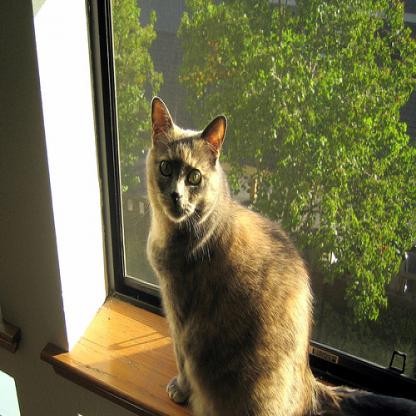cat: (142, 91, 415, 415)
